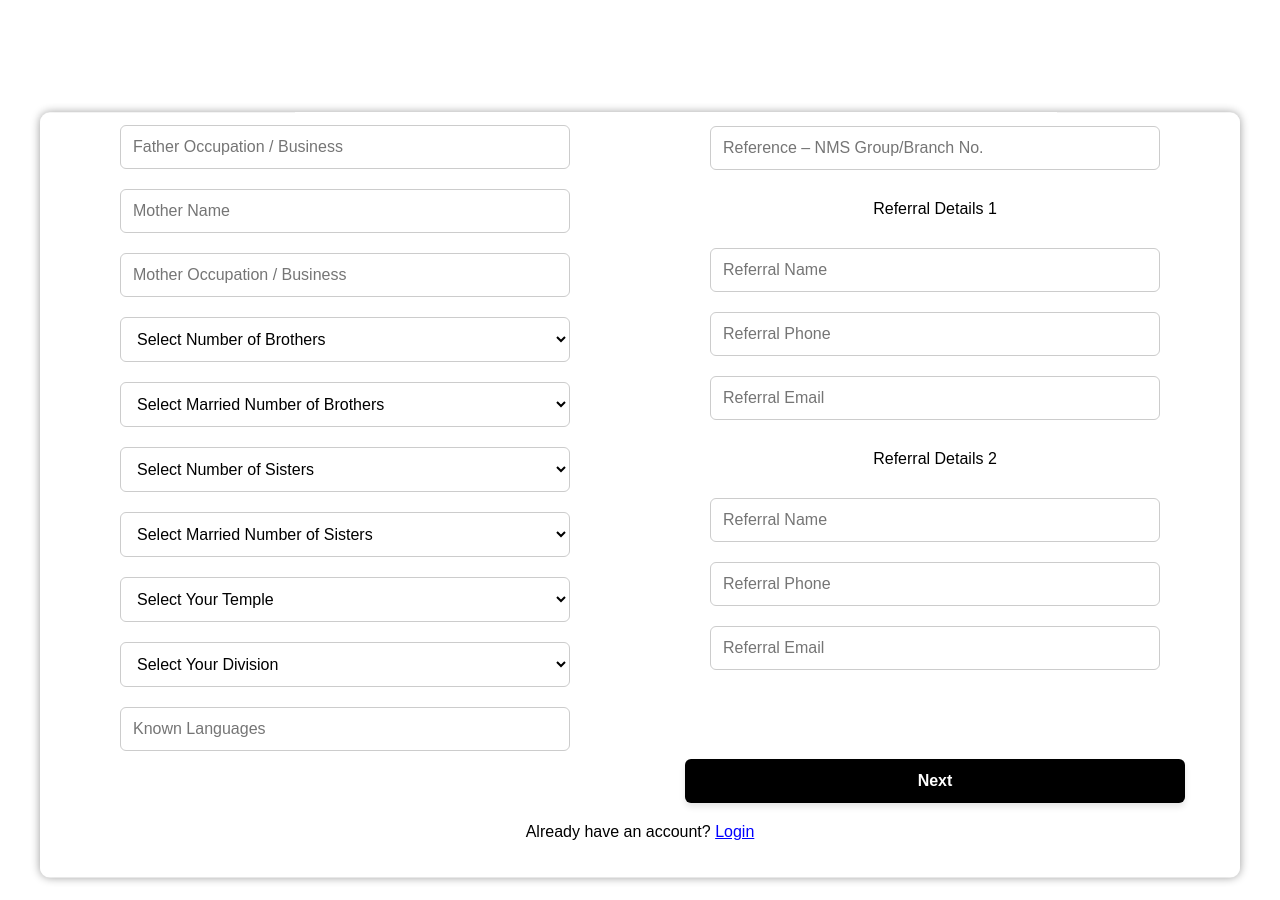
Test case: Registration Step 1 Validation › prevents navigation if fields are missing
(page scrolled)
Note: Click Next without filling mandatory fields
Click the button "Next": (935, 781) [685,759,1185,803]
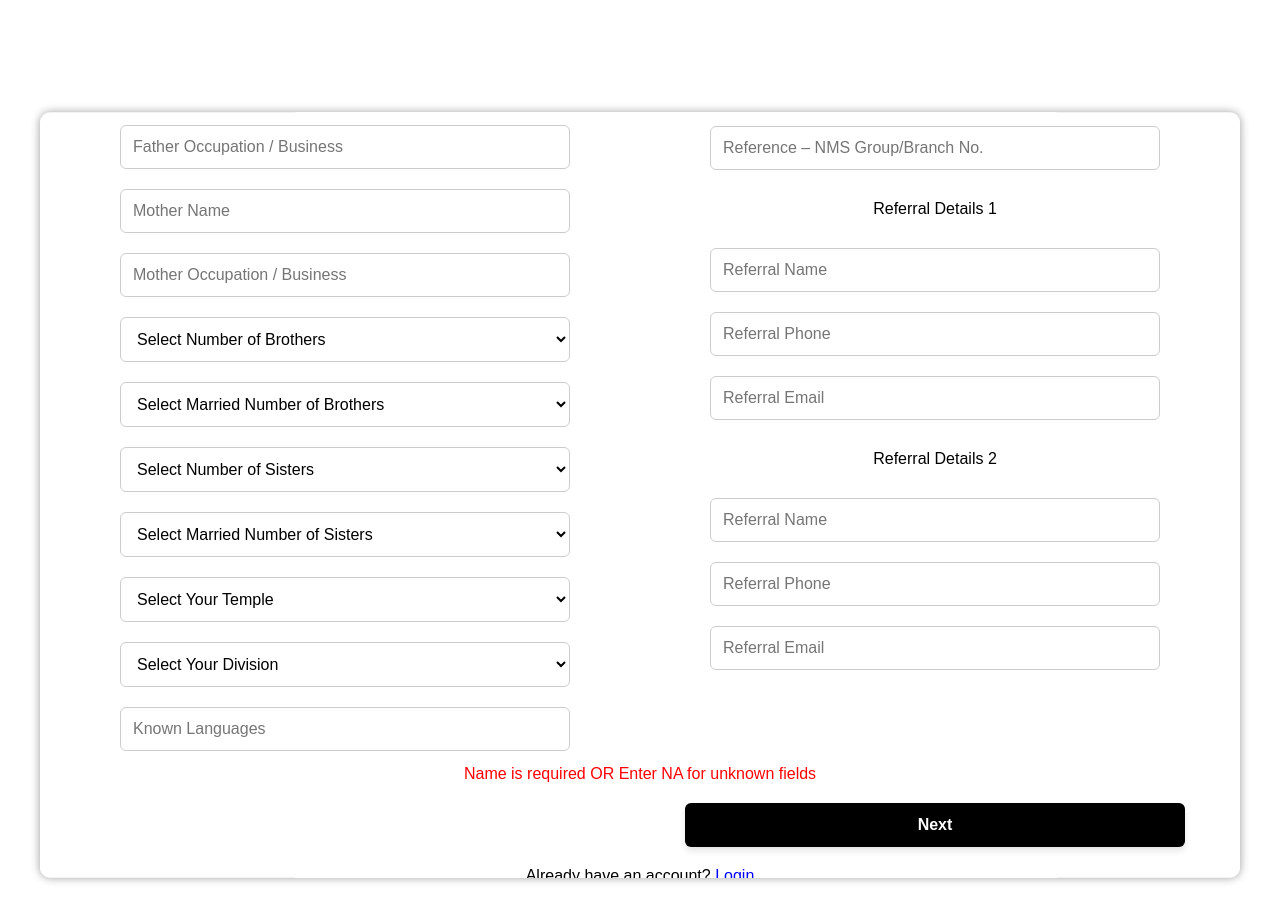
Expected: the text "Name is required OR Enter NA for unknown fields" is shown, [464,765,816,782]
